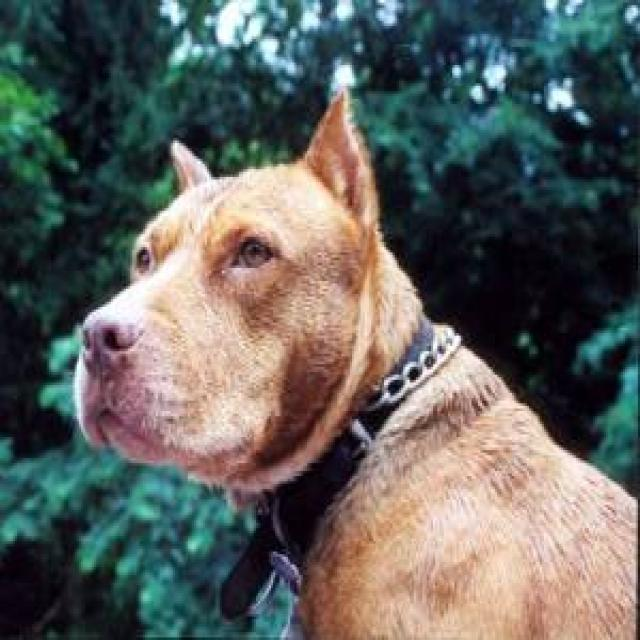dog-american_pit_bull_terrier: (62, 83, 636, 635)
